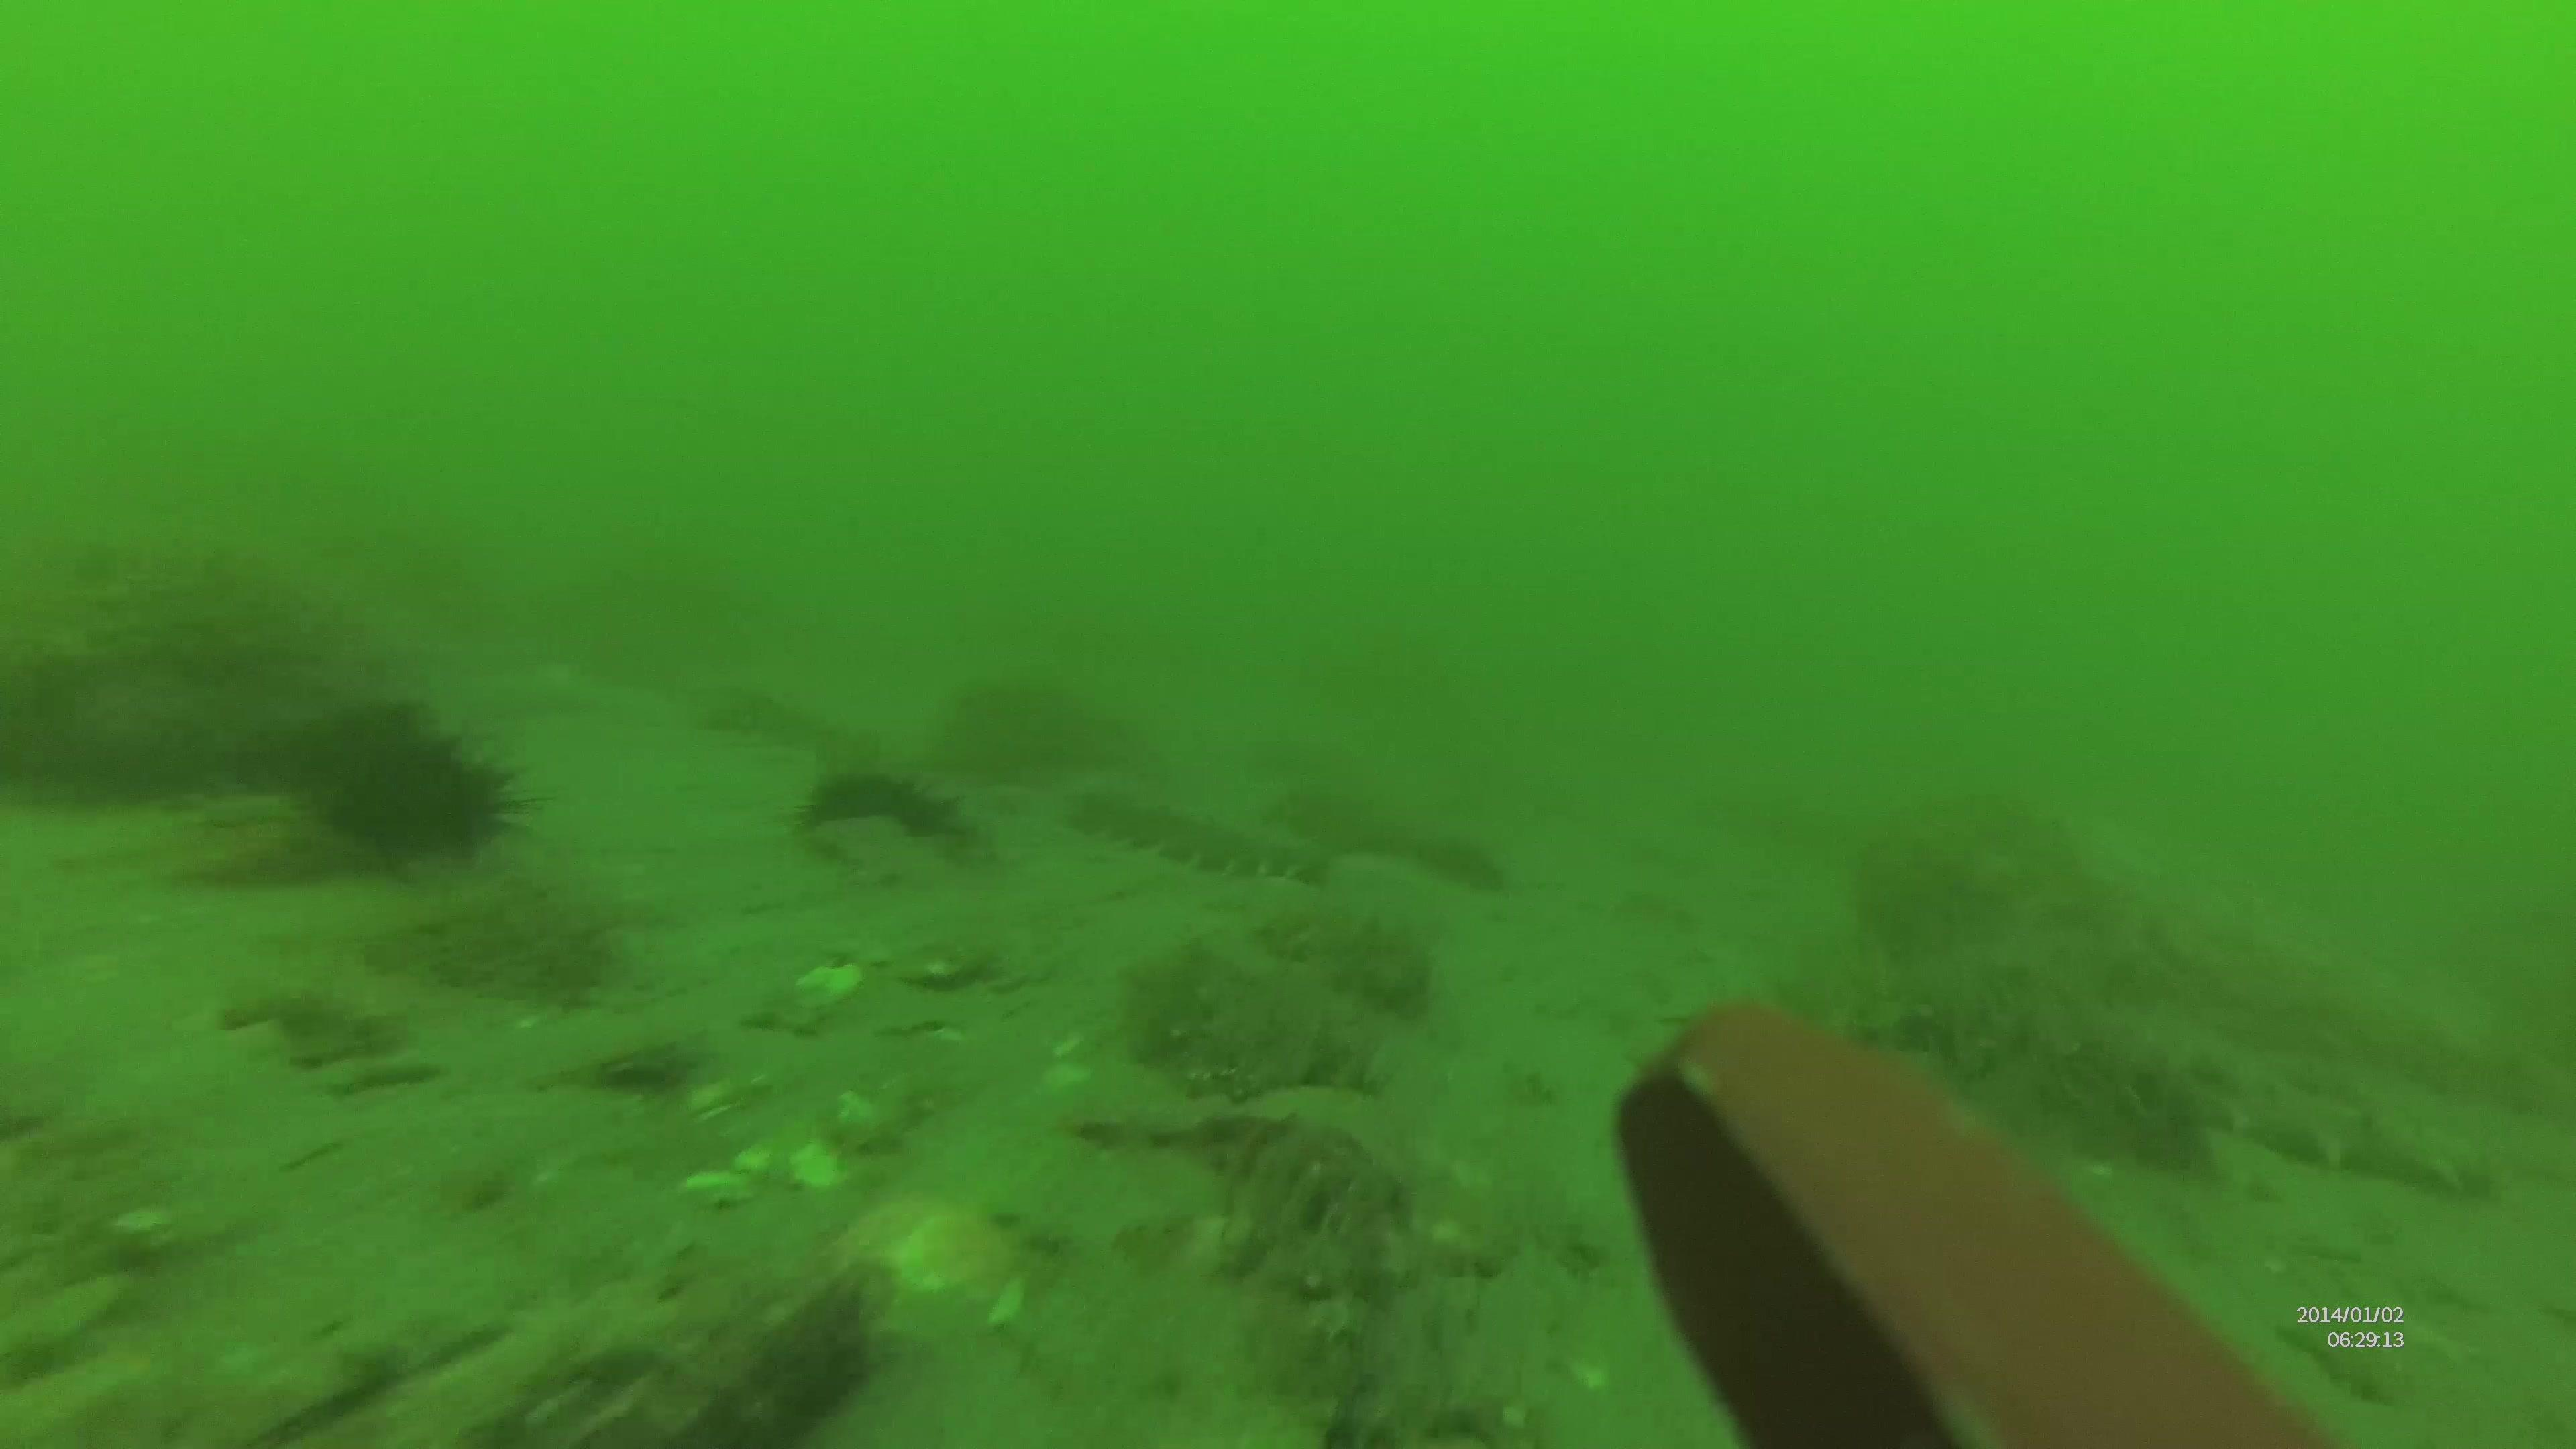echinus: (285, 708, 533, 872), (798, 764, 964, 863)
holothurian: (1840, 952, 2495, 1253), (1067, 782, 1323, 892)
scallop: (840, 1189, 1037, 1338)
